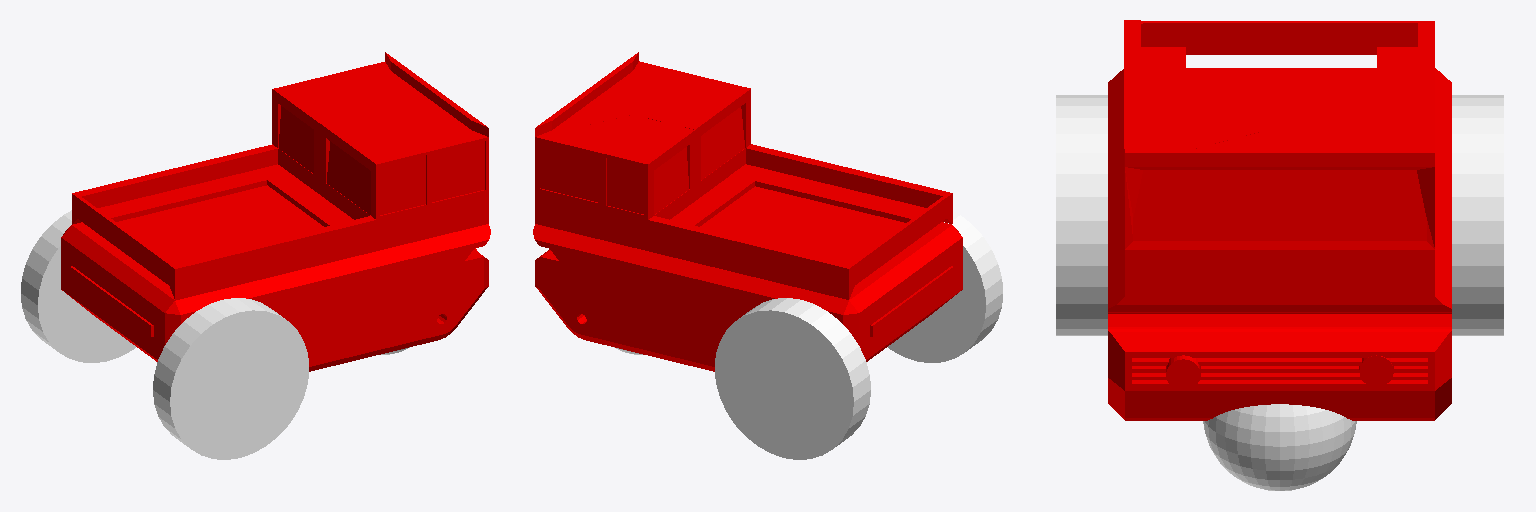
URDF robot description (basic_mobile_robot):
<?xml version="1.0" ?>
<!-- =================================================================================== -->
<!-- |    This document was autogenerated by xacro from basic_mobile_robot.urdf        | -->
<!-- |    EDITING THIS FILE BY HAND IS NOT RECOMMENDED                                 | -->
<!-- =================================================================================== -->
<robot name="basic_mobile_robot">
  <!-- ****************** ROBOT BASE FOOTPRINT ***************************  -->
  <link name="base_footprint"/>
  <joint name="base_joint" type="fixed">
    <parent link="base_footprint"/>
    <child link="base_link"/>
    <origin rpy="0 0 0" xyz="0.0 0.0 0.19"/>
  </joint>
  <!-- ********************** ROBOT BASE *********************************  -->
  <link name="base_link">
    <visual>
      <origin rpy="1.5707963267949 0 3.141592654" xyz="0 0 -0.05"/>
      <geometry>
        <mesh filename="package://basic_mobile_robot/meshes/robot_base.stl"/>
      </geometry>
      <material name="Red">
        <color rgba="1.0 0.0 0.0 1.0"/>
      </material>
    </visual>
    <collision>
      <geometry>
        <box size="0.7 0.39 0.2"/>
      </geometry>
    </collision>
    <inertial>
      <origin rpy="1.5707963267948966 0 1.5707963267948966" xyz="0 0 0"/>
      <mass value="40.0"/>
      <inertia ixx="1.7666666666666664" ixy="0.0" ixz="0.0" iyy="2.140333333333333" iyz="0.0" izz="0.6403333333333334"/>
    </inertial>
  </link>
  <gazebo reference="base_link">
    <material>Gazebo/Red</material>
  </gazebo>
  <link name="drivewhl_l_link">
    <visual>
      <origin rpy="1.5707963267949 0 0" xyz="0 0 0"/>
      <geometry>
        <cylinder length="0.06" radius="0.14"/>
      </geometry>
      <material name="White">
        <color rgba="1.0 1.0 1.0 1.0"/>
      </material>
    </visual>
    <collision>
      <origin rpy="1.5707963267948966 0 0" xyz="0 0 0"/>
      <geometry>
        <cylinder length="0.06" radius="0.14"/>
      </geometry>
    </collision>
    <inertial>
      <origin rpy="1.5707963267948966 0 0" xyz="0 0 0"/>
      <mass value="110.5"/>
      <inertia ixx="0.5746000000000001" ixy="0" ixz="0" iyy="0.5746000000000001" iyz="0" izz="1.0829000000000002"/>
    </inertial>
  </link>
  <joint name="drivewhl_l_joint" type="revolute">
    <parent link="base_link"/>
    <child link="drivewhl_l_link"/>
    <origin rpy="0 0 0" xyz="-0.221 0.23 -0.05"/>
    <limit effort="30" lower="-3.1415" upper="3.1415" velocity="5.0"/>
    <axis xyz="0 1 0"/>
  </joint>
  <link name="drivewhl_r_link">
    <visual>
      <origin rpy="1.5707963267949 0 0" xyz="0 0 0"/>
      <geometry>
        <cylinder length="0.06" radius="0.14"/>
      </geometry>
      <material name="White">
        <color rgba="1.0 1.0 1.0 1.0"/>
      </material>
    </visual>
    <collision>
      <origin rpy="1.5707963267948966 0 0" xyz="0 0 0"/>
      <geometry>
        <cylinder length="0.06" radius="0.14"/>
      </geometry>
    </collision>
    <inertial>
      <origin rpy="1.5707963267948966 0 0" xyz="0 0 0"/>
      <mass value="110.5"/>
      <inertia ixx="0.5746000000000001" ixy="0" ixz="0" iyy="0.5746000000000001" iyz="0" izz="1.0829000000000002"/>
    </inertial>
  </link>
  <joint name="drivewhl_r_joint" type="revolute">
    <parent link="base_link"/>
    <child link="drivewhl_r_link"/>
    <origin rpy="0 0 0" xyz="-0.221 -0.23 -0.05"/>
    <limit effort="30" lower="-3.1415" upper="3.1415" velocity="5.0"/>
    <axis xyz="0 1 0"/>
  </joint>
  <!-- *********************** CASTER WHEEL ******************************  -->
  <link name="front_caster">
    <visual>
      <geometry>
        <sphere radius="0.09"/>
      </geometry>
      <material name="White">
        <color rgba="1.0 1.0 1.0 1.0"/>
      </material>
    </visual>
    <collision>
      <origin rpy="0 0 0" xyz="0 0 0"/>
      <geometry>
        <sphere radius="0.09"/>
      </geometry>
    </collision>
    <inertial>
      <mass value="10.05"/>
      <inertia ixx="0.032562" ixy="0.0" ixz="0.0" iyy="0.032562" iyz="0.0" izz="0.032562"/>
    </inertial>
  </link>
  <gazebo reference="front_caster">
    <mu1>0.01</mu1>
    <mu2>0.01</mu2>
    <material>Gazebo/White</material>
  </gazebo>
  <joint name="caster_joint" type="fixed">
    <parent link="base_link"/>
    <child link="front_caster"/>
    <origin rpy="0 0 0" xyz="0.217 0.0 -0.1"/>
  </joint>
  <!-- *********************** IMU SETUP *********************************  -->
  <joint name="imu_joint" type="fixed">
    <parent link="base_link"/>
    <child link="imu_link"/>
    <origin rpy="0 0 0" xyz="-0.10 0 0.05"/>
  </joint>
  <link name="imu_link"/>
  <!-- *********************** GPS SETUP **********************************  -->
  <joint name="gps_joint" type="fixed">
    <parent link="base_link"/>
    <child link="gps_link"/>
    <origin rpy="0 0 0" xyz="0.10 0 0.05"/>
  </joint>
  <link name="gps_link"/>
</robot>

--- What the picture shows (computed from the rendered views, not written in the file) ---
The picture shows the robot from 3 angles, left to right: view 1: azimuth 30°, elevation 25°; view 2: azimuth 150°, elevation 25°; view 3: azimuth 270°, elevation 25°; orthographic projection.
Robot: basic_mobile_robot — 7 links, 6 joints (2 revolute, 4 fixed); root link base_footprint; default pose: every joint at zero.
Visible links, largest first — view 1: base_link, drivewhl_r_link, drivewhl_l_link; view 2: base_link, drivewhl_l_link, drivewhl_r_link; view 3: base_link, drivewhl_l_link, drivewhl_r_link, front_caster.
Link boxes in pixels (x1=…): base_link: x1=61, y1=52, x2=490, y2=371; drivewhl_r_link: x1=153, y1=298, x2=308, y2=459; drivewhl_l_link: x1=21, y1=210, x2=135, y2=362; base_link: x1=533, y1=52, x2=962, y2=371; drivewhl_l_link: x1=715, y1=298, x2=870, y2=459; drivewhl_r_link: x1=888, y1=211, x2=1002, y2=362; base_link: x1=1108, y1=20, x2=1451, y2=420; drivewhl_l_link: x1=1452, y1=95, x2=1503, y2=335; drivewhl_r_link: x1=1056, y1=95, x2=1107, y2=335; front_caster: x1=1203, y1=404, x2=1356, y2=490.
Bounding box of the posed robot: 0.6971 × 0.52 × 0.4747 m (x, y, z).
Meshes: 1 distinct files referenced, 1 mesh visuals loaded (1 binary STL).